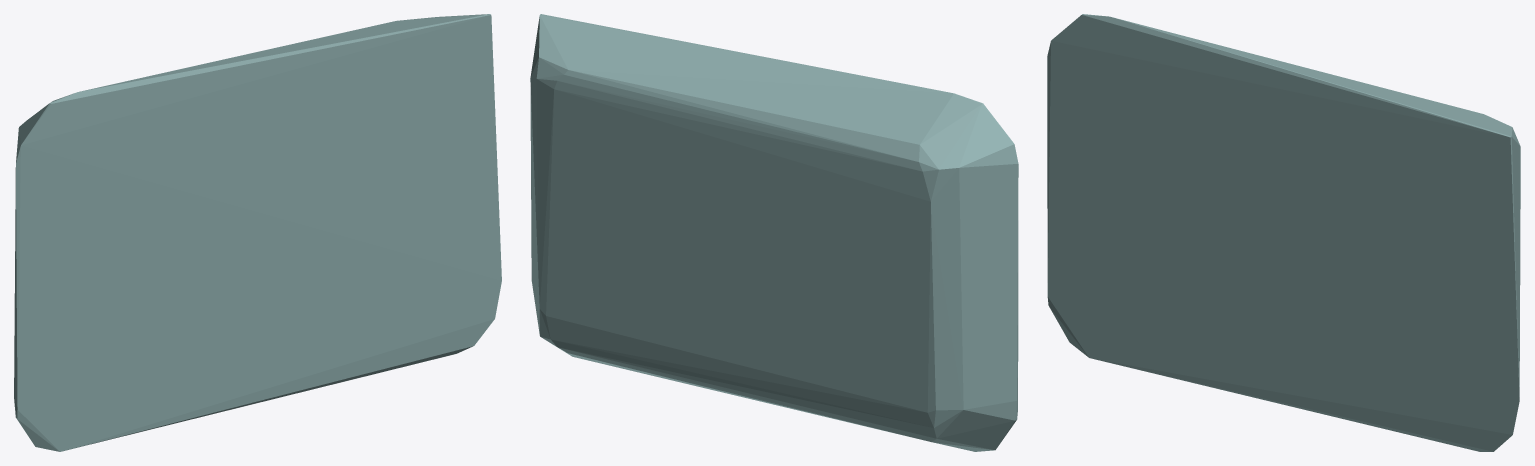
File: container_system_sterilising_b03.glb
The picture shows the model from 3 angles, left to right: view 1: azimuth 30°, elevation 25°; view 2: azimuth 150°, elevation 25°; view 3: azimuth 330°, elevation 25°; orthographic projection. The views are drawn at different scales.
Parts seen in each view (by area): view 1: geometry_0; view 2: geometry_0; view 3: geometry_0.
Boxes of the visible parts, x1,y1,x2,y2 form: geometry_0: (14, 14, 501, 451); geometry_0: (530, 14, 1018, 451); geometry_0: (1047, 14, 1520, 451).
Size of the model in its own units: 0.4787 by 0.334 by 0.0637.
